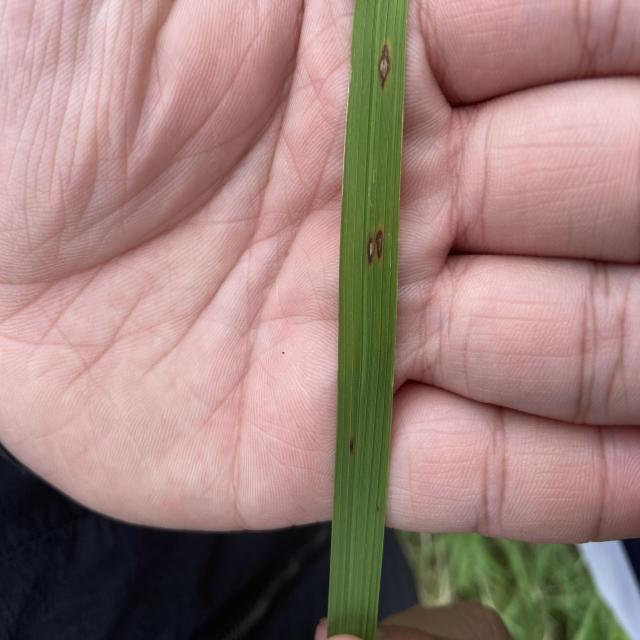Dao on: (378, 43, 391, 89), (374, 226, 384, 262), (367, 238, 374, 267)
